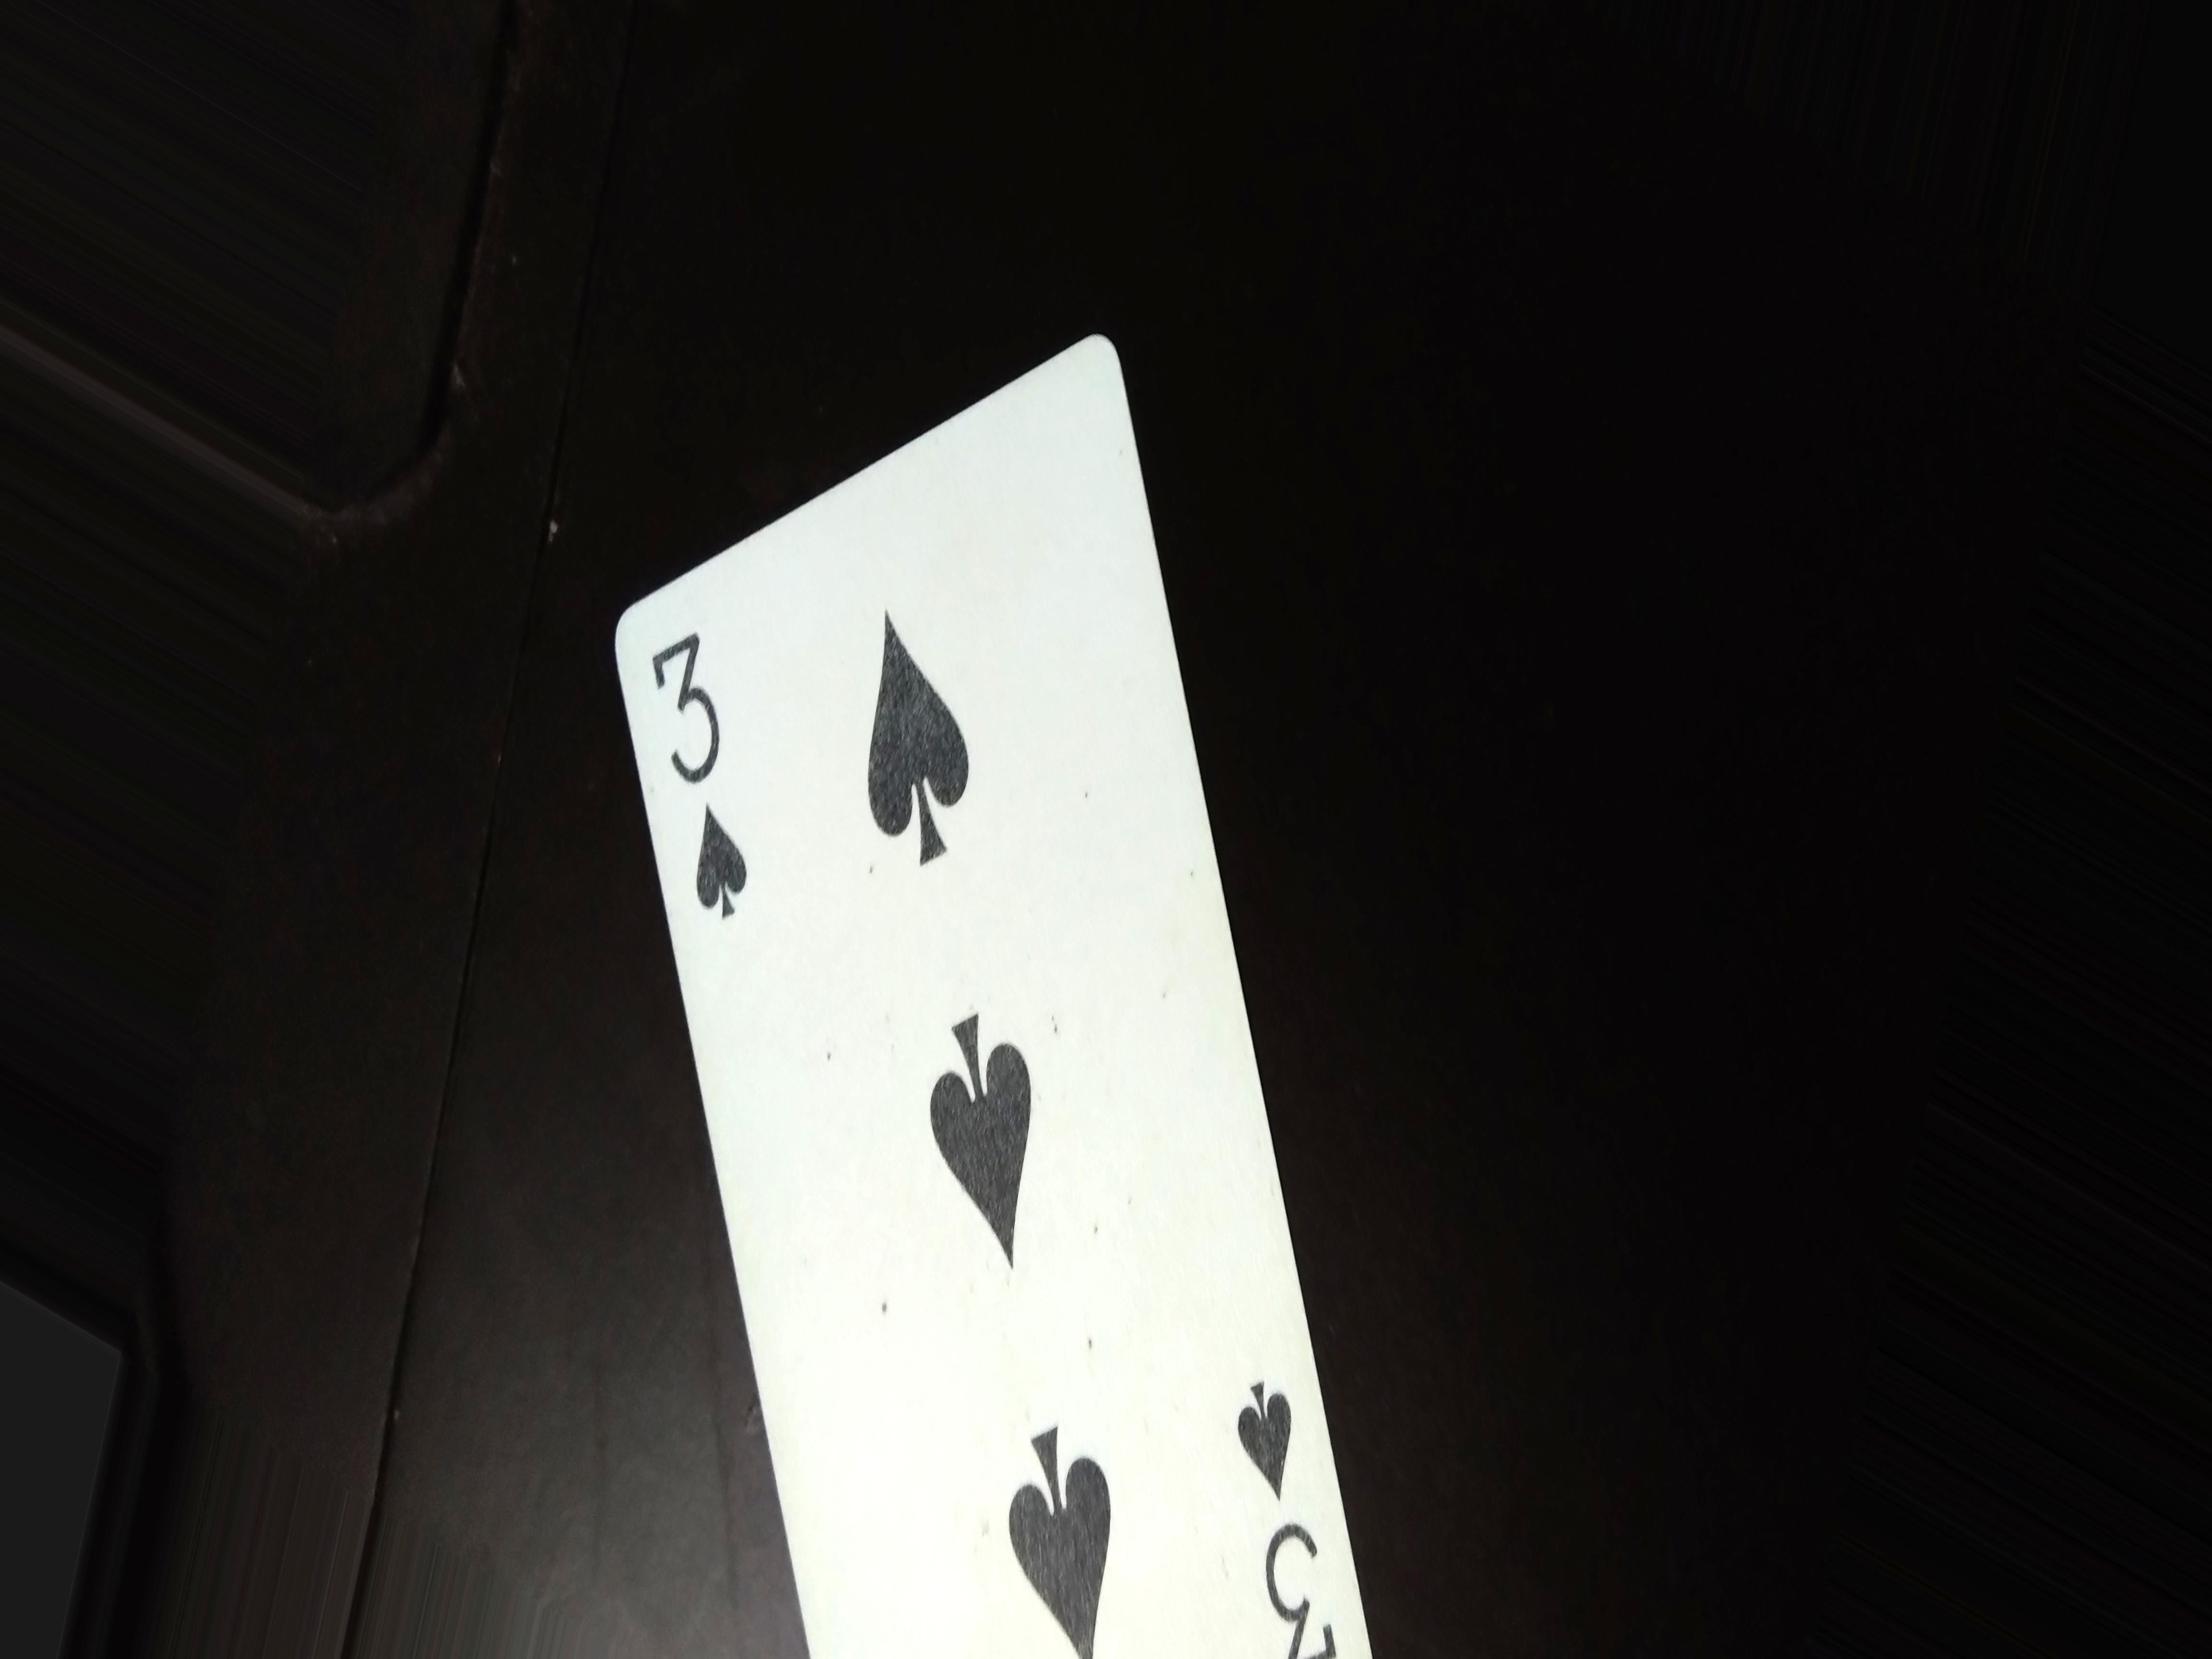3S: (639, 626, 787, 927)
